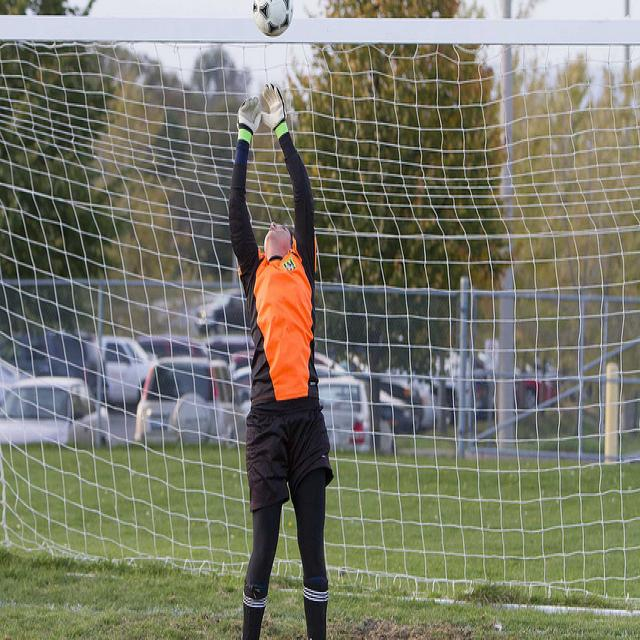Vehicle: (232, 363, 372, 452), (135, 356, 248, 446), (45, 334, 157, 410), (2, 376, 111, 447), (7, 331, 99, 401), (88, 339, 154, 403), (376, 373, 426, 448), (191, 289, 250, 335), (202, 330, 256, 372), (136, 334, 208, 359), (410, 379, 441, 432), (516, 372, 557, 409), (472, 353, 490, 421), (444, 380, 459, 425)
